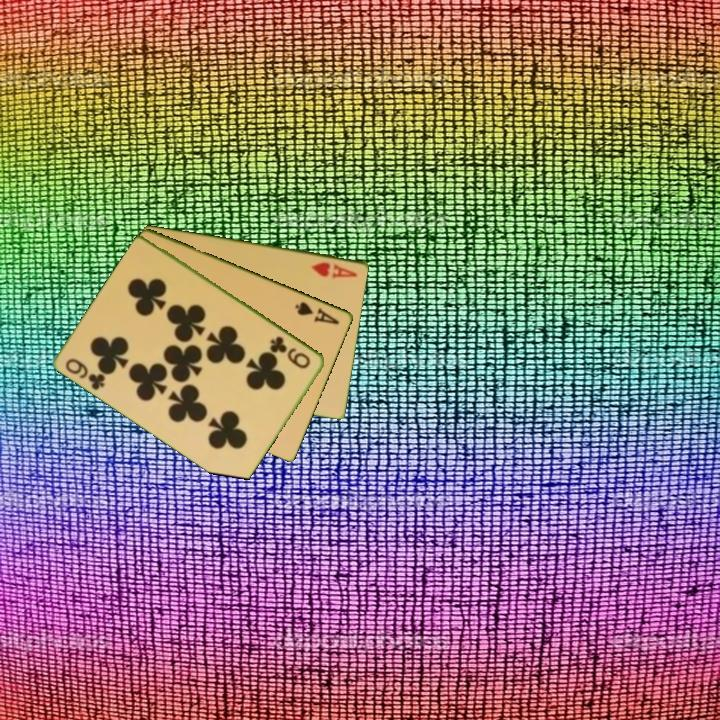9c: (267, 332, 314, 372), (62, 354, 109, 393)
Ah: (308, 258, 361, 281)
As: (292, 298, 343, 327)
